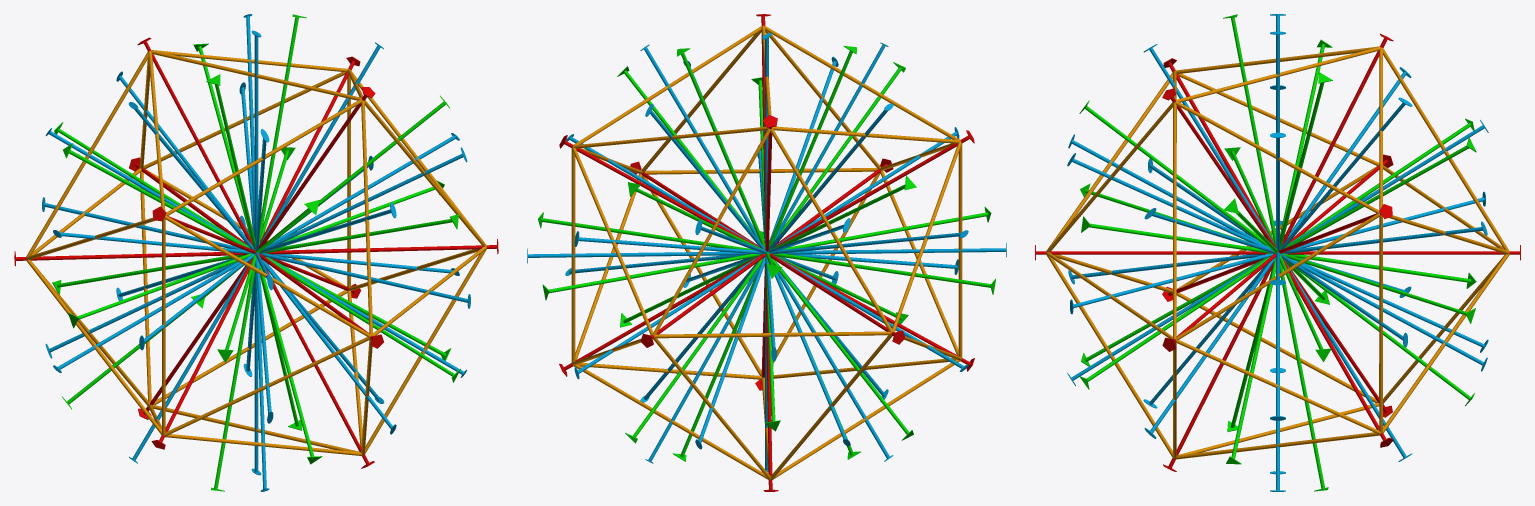
File: 5ZAP_axis.glb
3 views of the same model, side by side, from view 1: azimuth 30°, elevation 25°; view 2: azimuth 150°, elevation 25°; view 3: azimuth 270°, elevation 25° (orthographic).
Size of the model in its own units: 1535 by 1552 by 1552.
